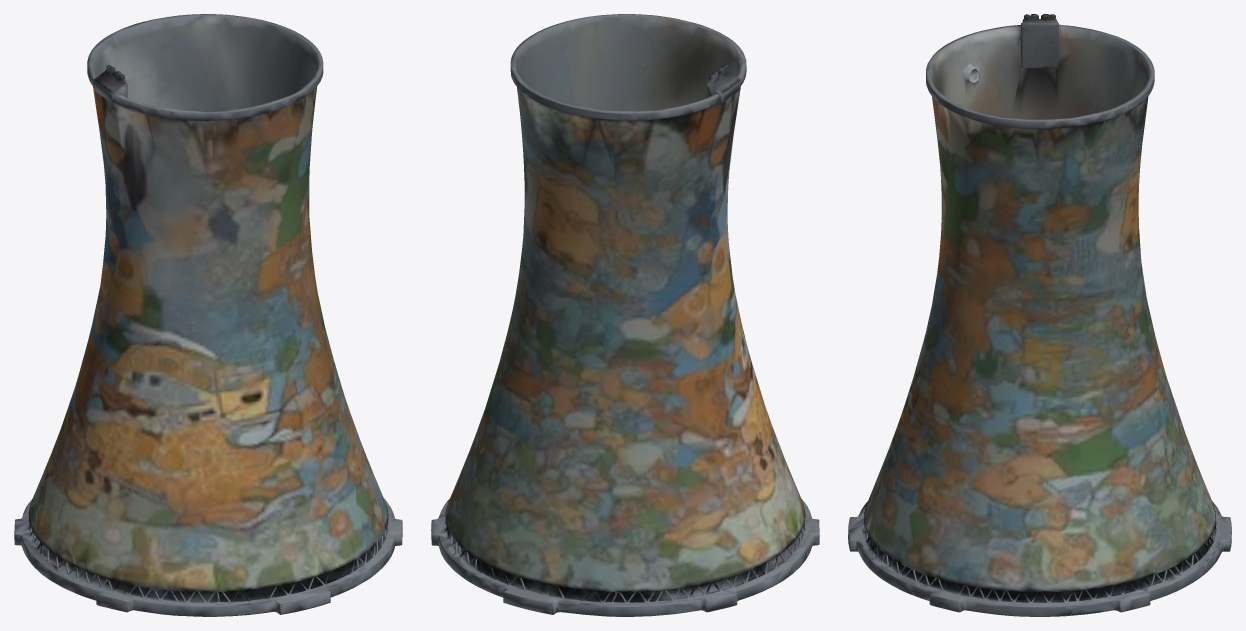
Rendered from SowetoTower2.glb.
3 renders of one model, left to right at view 1: azimuth 30°, elevation 25°; view 2: azimuth 150°, elevation 25°; view 3: azimuth 270°, elevation 25°, orthographic. The views are drawn at different scales.
Parts seen in each view (by area): view 1: node_0; view 2: node_0; view 3: node_0.
Boxes of the visible parts, x1,y1,x2,y2 form: node_0: [14, 14, 402, 616]; node_0: [431, 14, 819, 616]; node_0: [848, 14, 1231, 616].
Size of the model in its own units: 0.6775 by 0.9721 by 0.7035.
1 material, 1 textured.
